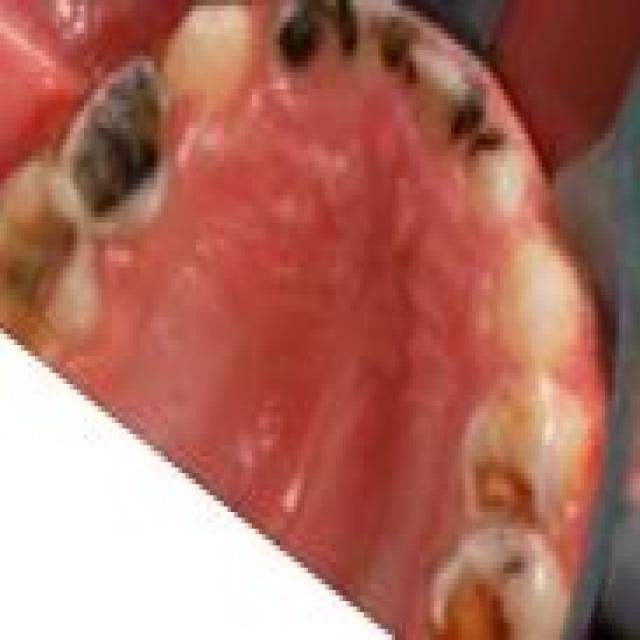caries: (65, 50, 170, 230), (0, 179, 84, 335), (273, 0, 364, 89), (423, 552, 511, 640), (471, 444, 548, 529), (372, 9, 423, 89), (438, 69, 486, 146), (467, 128, 510, 180), (500, 541, 538, 589)
